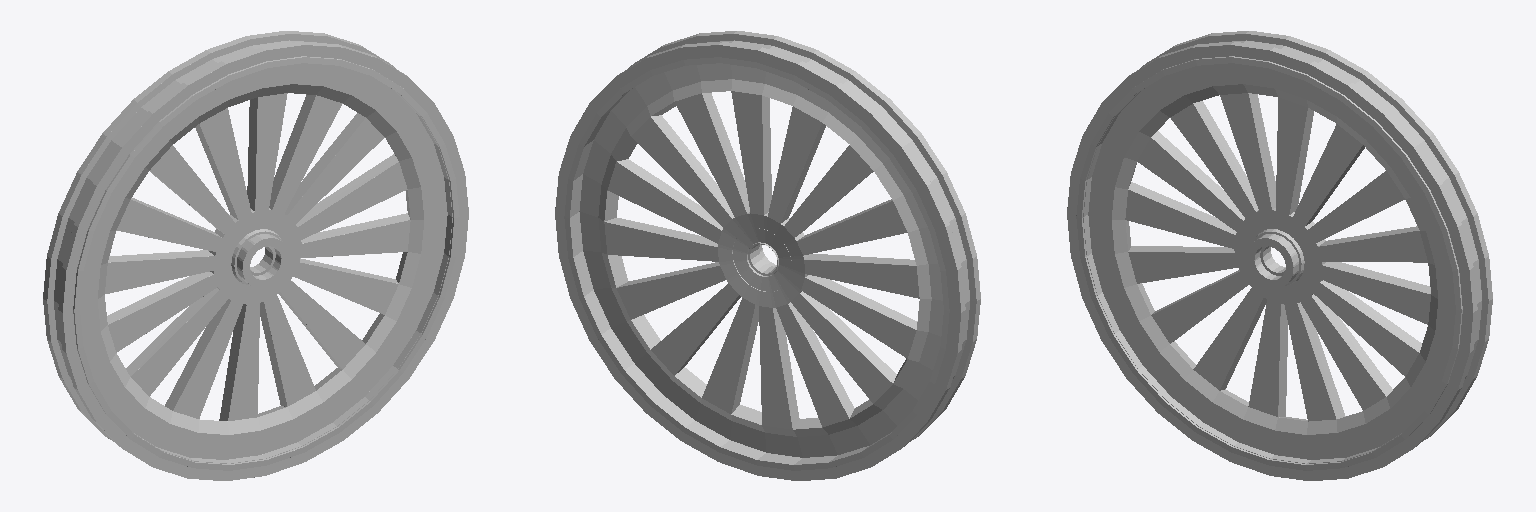
The model's file is kolo3.obj.
3 views of the same model, side by side, from view 1: azimuth 30°, elevation 25°; view 2: azimuth 150°, elevation 25°; view 3: azimuth 330°, elevation 25° (orthographic).
Parts seen in each view (by area): view 1: Circle; view 2: Circle; view 3: Circle.
Part boxes in pixels (left/top/right/bottom): Circle: left=43, top=31, right=468, bottom=480; Circle: left=555, top=31, right=980, bottom=480; Circle: left=1067, top=31, right=1492, bottom=480.
Size of the model in its own units: 0.5431 by 0.5431 by 0.0516.